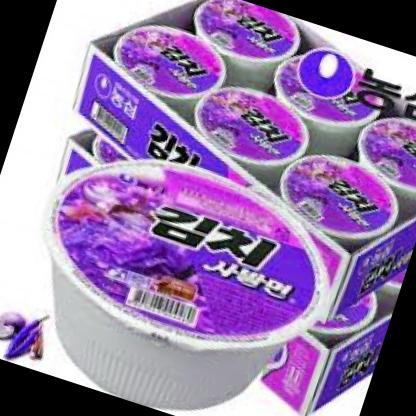Ramen: (7, 136, 355, 416), (180, 69, 324, 194), (272, 140, 414, 264), (262, 41, 396, 166), (96, 6, 226, 122), (182, 0, 316, 103), (349, 100, 416, 198)
